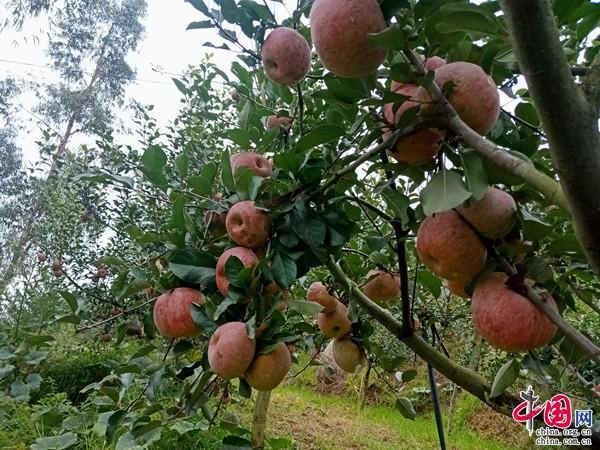apple: (468, 274, 558, 352), (309, 1, 387, 77), (433, 60, 498, 136), (260, 26, 311, 86), (206, 321, 254, 381), (241, 337, 293, 392), (152, 286, 204, 339), (223, 201, 271, 249), (360, 267, 399, 303), (314, 300, 349, 336), (229, 152, 272, 178), (331, 337, 361, 373)
